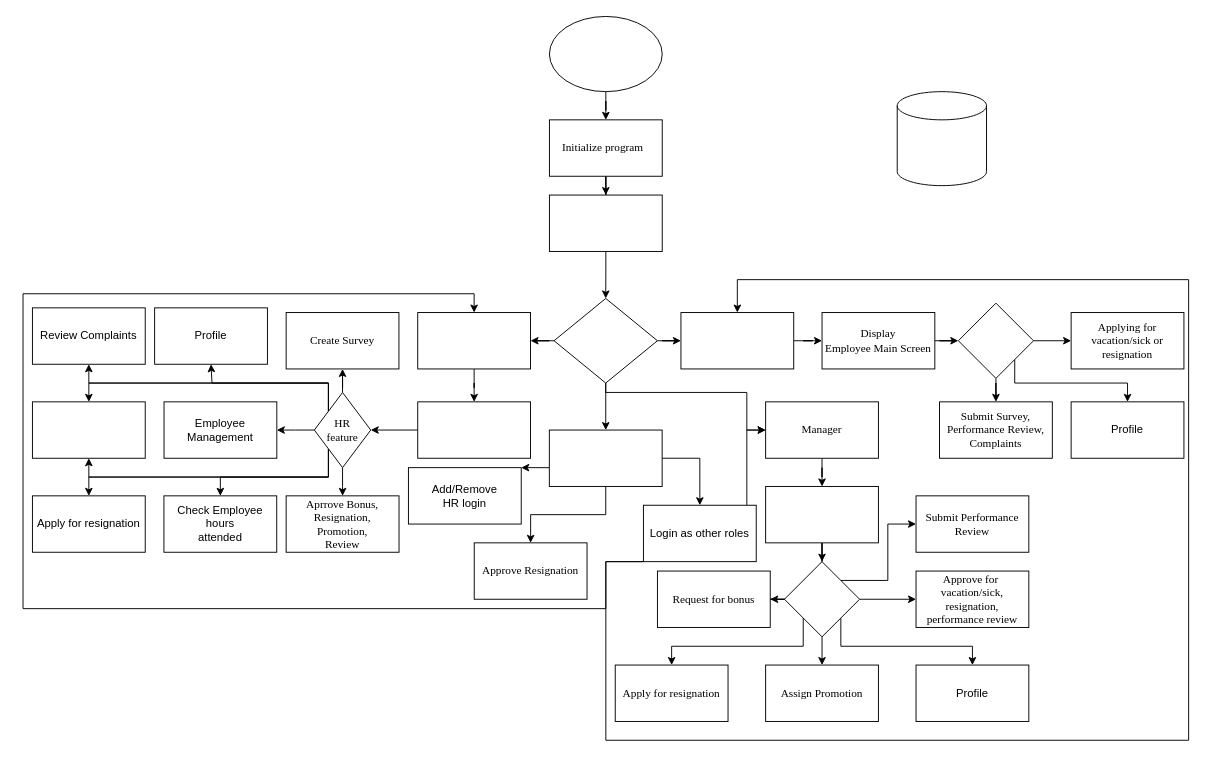
Some shapes in this 1213 by 764 pixel diagram are drawn without their labels. The shapes that lost their labels are listed below. From the top down, each one's box as (x1, y1, x2, y2) in pixels, then its label:
(548, 16, 662, 92): Start
(896, 91, 987, 186): Database
(548, 194, 662, 251): Display Login Screen
(417, 312, 531, 369): HR
(553, 298, 657, 383): Check for Login details
(680, 312, 794, 369): Employee
(957, 302, 1034, 378): Employee Feature
(31, 401, 145, 458): View Survey
(417, 401, 531, 458): Display HR Main Screen
(548, 429, 662, 486): Admin
(765, 486, 878, 543): Display Manager Main Screen
(783, 561, 860, 637): Manager Features
